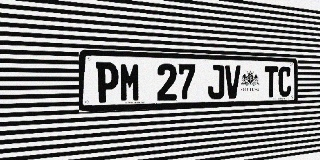2: (157, 63, 177, 101)
7: (177, 64, 195, 100)
C: (278, 66, 291, 97)
J: (208, 65, 224, 99)
M: (119, 62, 141, 102)
P: (96, 62, 119, 103)
T: (264, 66, 278, 97)
V: (225, 65, 241, 99)
